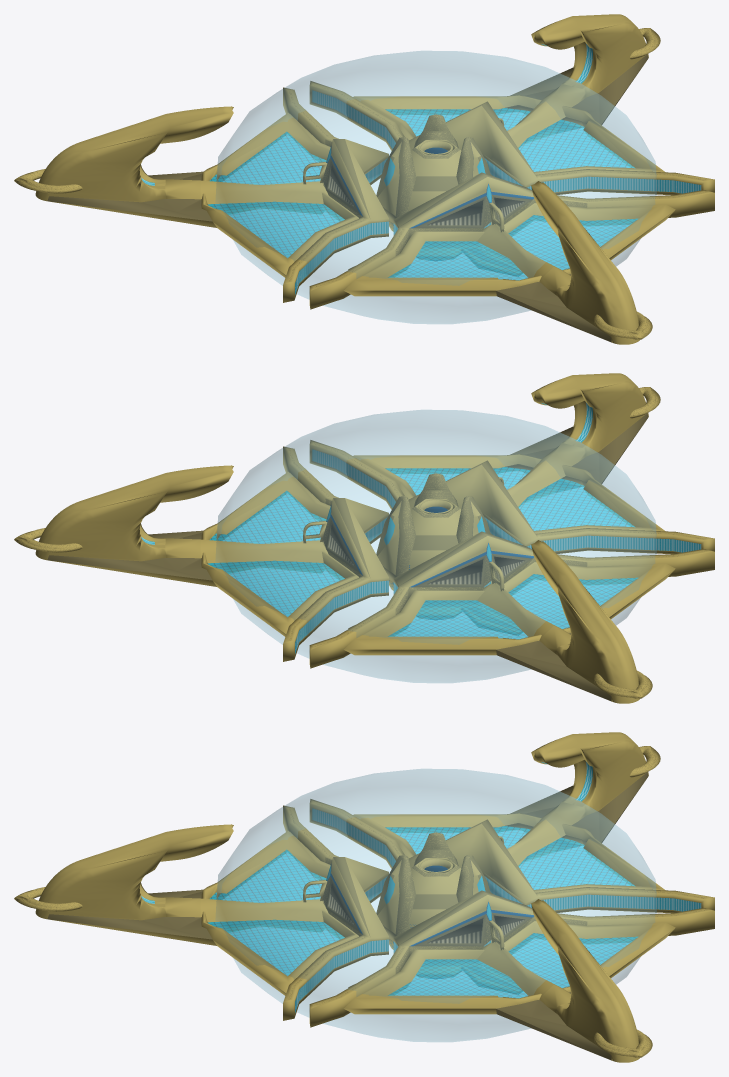
The picture shows the model from 3 angles, top to bottom: view 1: azimuth 30°, elevation 25°; view 2: azimuth 150°, elevation 25°; view 3: azimuth 270°, elevation 25°; orthographic projection.
Visible parts, largest first — view 1: strecha, kridlo (×15), lem (×8), stredovysloupvelky (×3), group_0 (×2); view 2: strecha, kridlo (×15), lem (×8), stredovysloupvelky (×3), group_0 (×2); view 3: strecha, kridlo (×15), lem (×8), stredovysloupvelky (×3), group_0 (×2).
Boxes of the visible parts, x1,y1,x2,y2 form: strecha: [215, 51, 656, 323]; kridlo (×15): [14, 14, 675, 344]; lem (×8): [283, 81, 714, 309]; stredovysloupvelky (×3): [377, 114, 458, 216]; group_0 (×2): [411, 150, 461, 191]; strecha: [215, 410, 656, 682]; kridlo (×15): [14, 373, 675, 703]; lem (×8): [283, 440, 714, 668]; stredovysloupvelky (×3): [377, 473, 458, 575]; group_0 (×2): [411, 509, 461, 550]; strecha: [215, 769, 656, 1041]; kridlo (×15): [14, 732, 675, 1062]; lem (×8): [283, 799, 714, 1027]; stredovysloupvelky (×3): [377, 832, 458, 934]; group_0 (×2): [411, 868, 461, 909].
Size of the model in its own units: 1646 by 1576 by 495.
11 materials, 3 textured.
